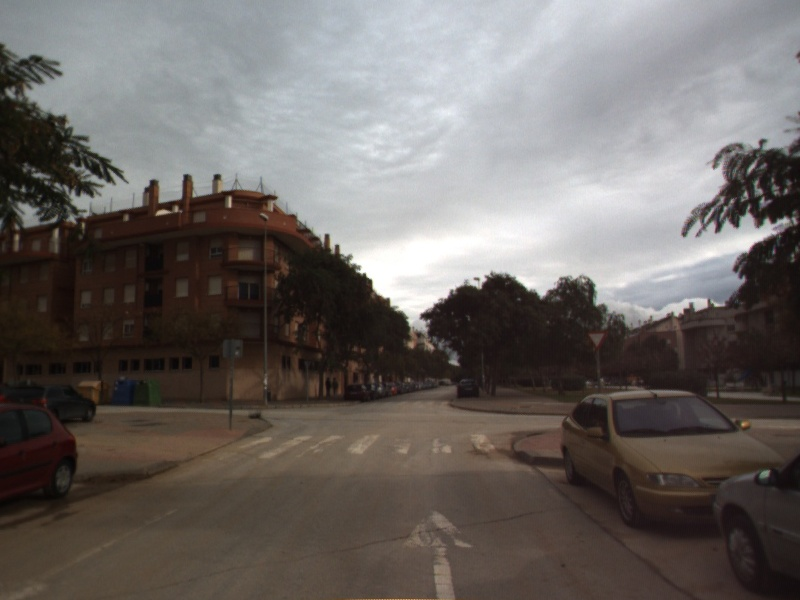STRAIGHT: (399, 506, 477, 600)
